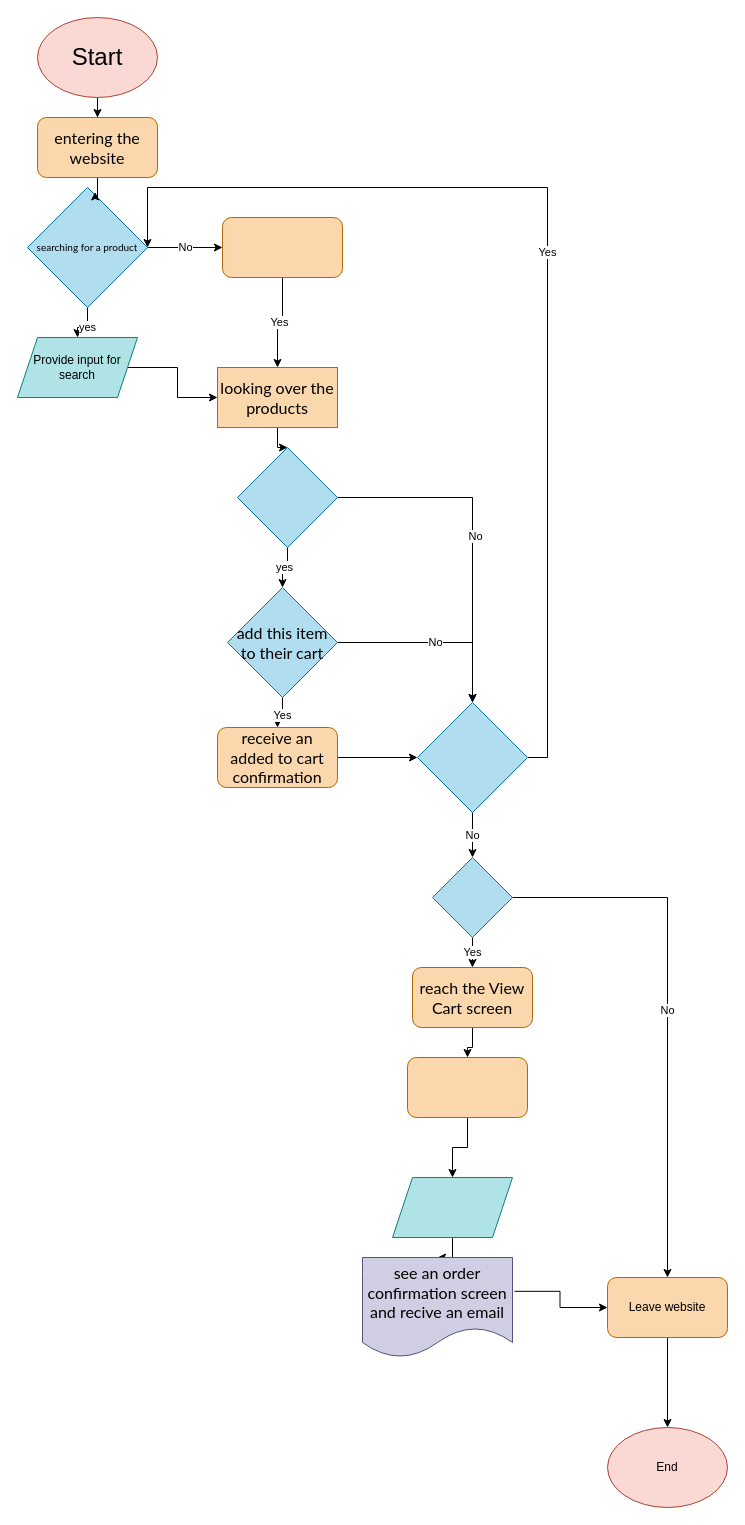
This 745x1525 diagram has some shape labels left out. Each missing label, with the centre of its shape:
Check out: the point at 472,897
continue shopping: the point at 472,757
exploring the products: the point at 282,247
payment information: the point at 452,1207
view a specific product: the point at 287,497
View Payment screen: the point at 467,1087
